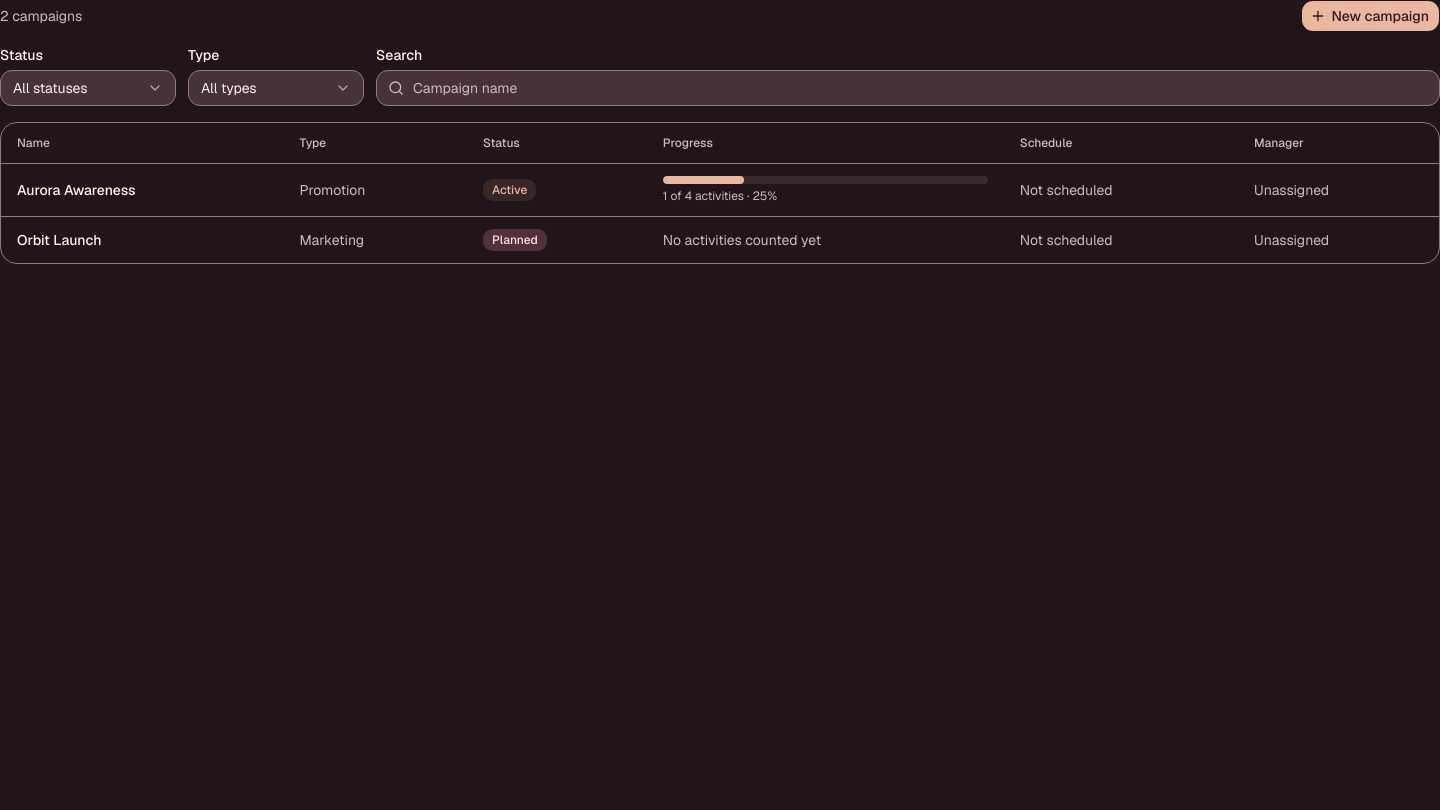
Test: CampaignsManager API integration › creating › maps an API subject conflict to a message beside the form
Expected: the text "2 campaigns" is shown, [0, 6, 82, 26]
Click the button "New campaign". click: [1370, 16]
box: [1300, 0, 1439, 32]
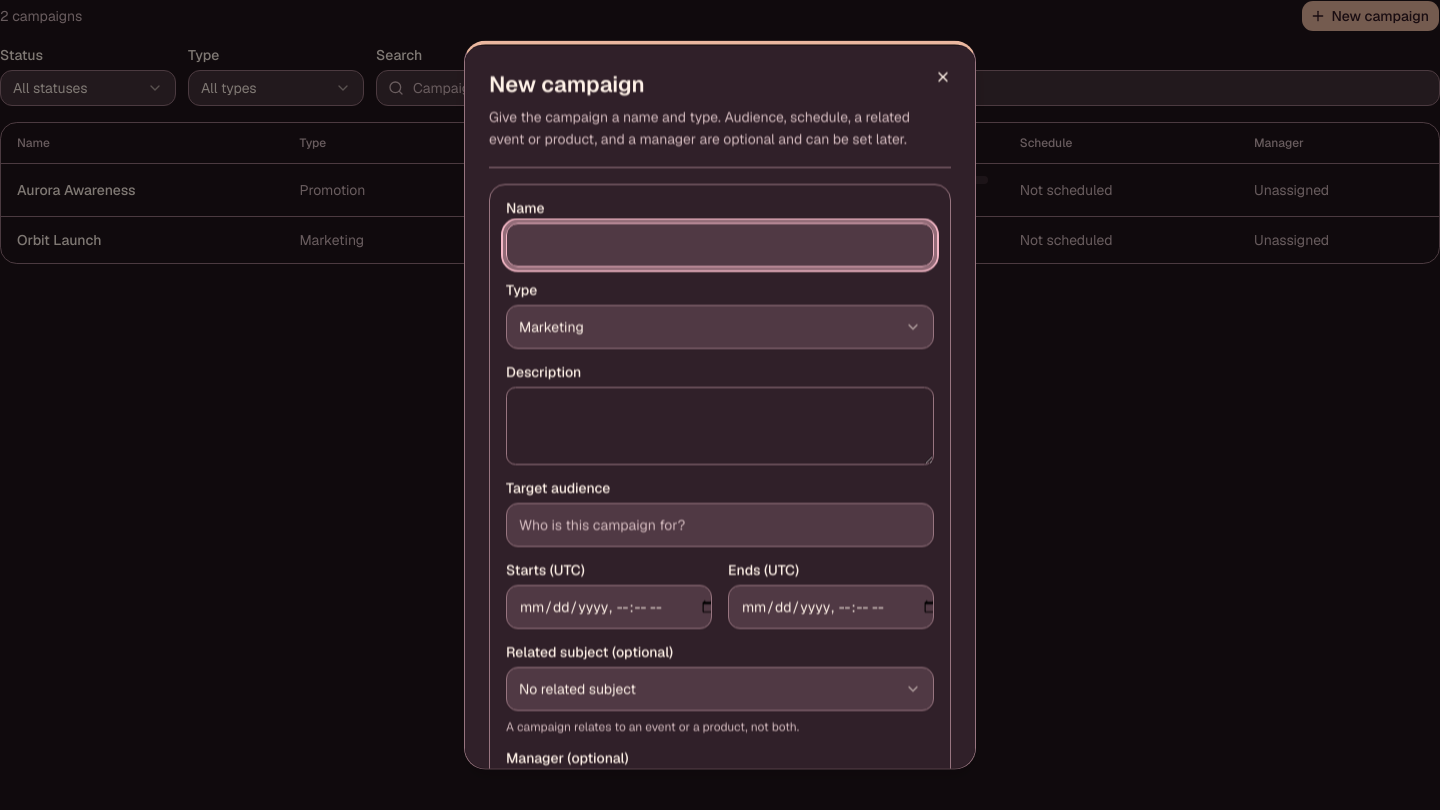
Type "Both" into the field labelled "Name". click: [720, 244]
box: [506, 222, 934, 266]
(page scrolled)
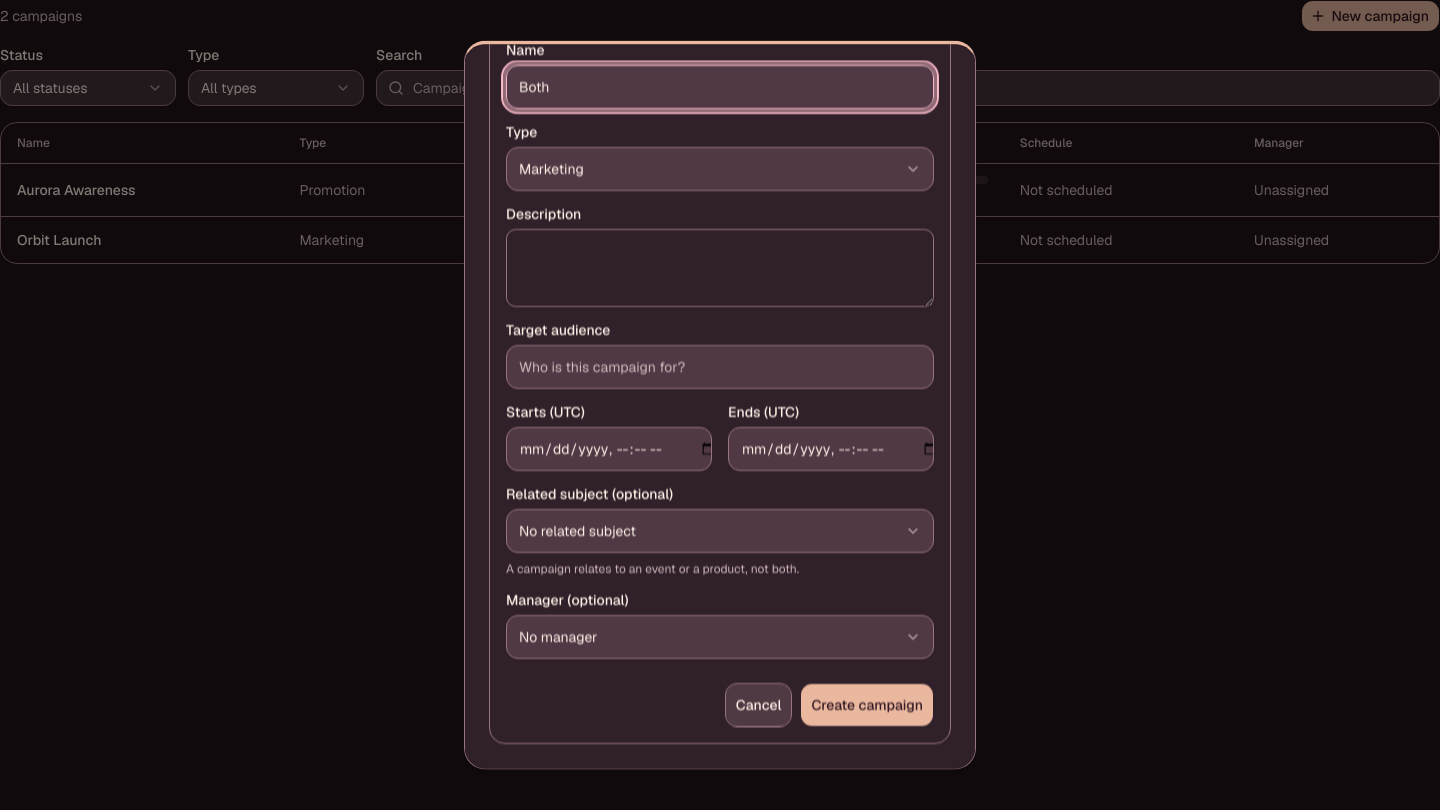
Click the button "Create campaign". click: [867, 705]
box: [800, 683, 934, 727]
(page scrolled)
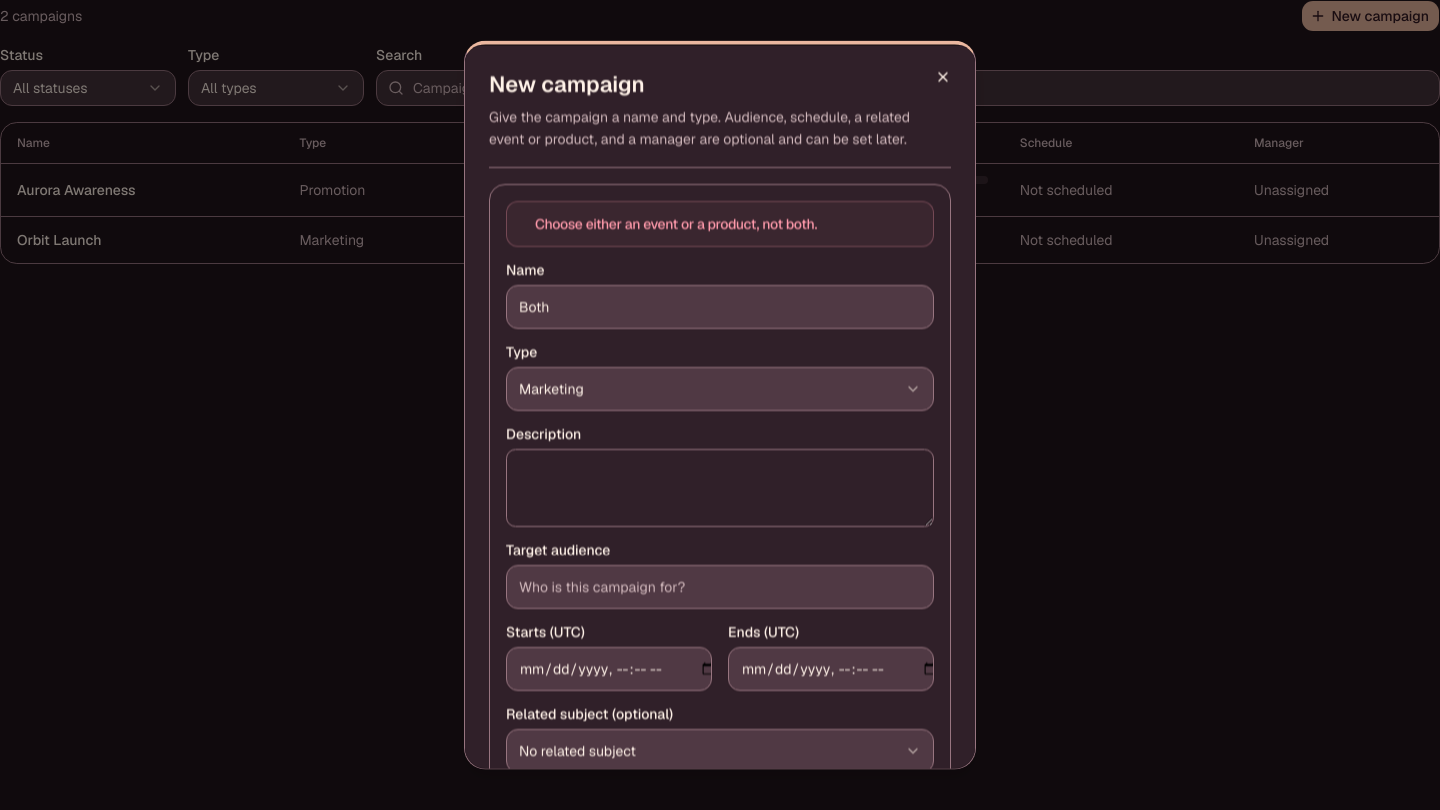
Now the text "Choose either an event or a product, not both." is shown, box [535, 214, 817, 232]
